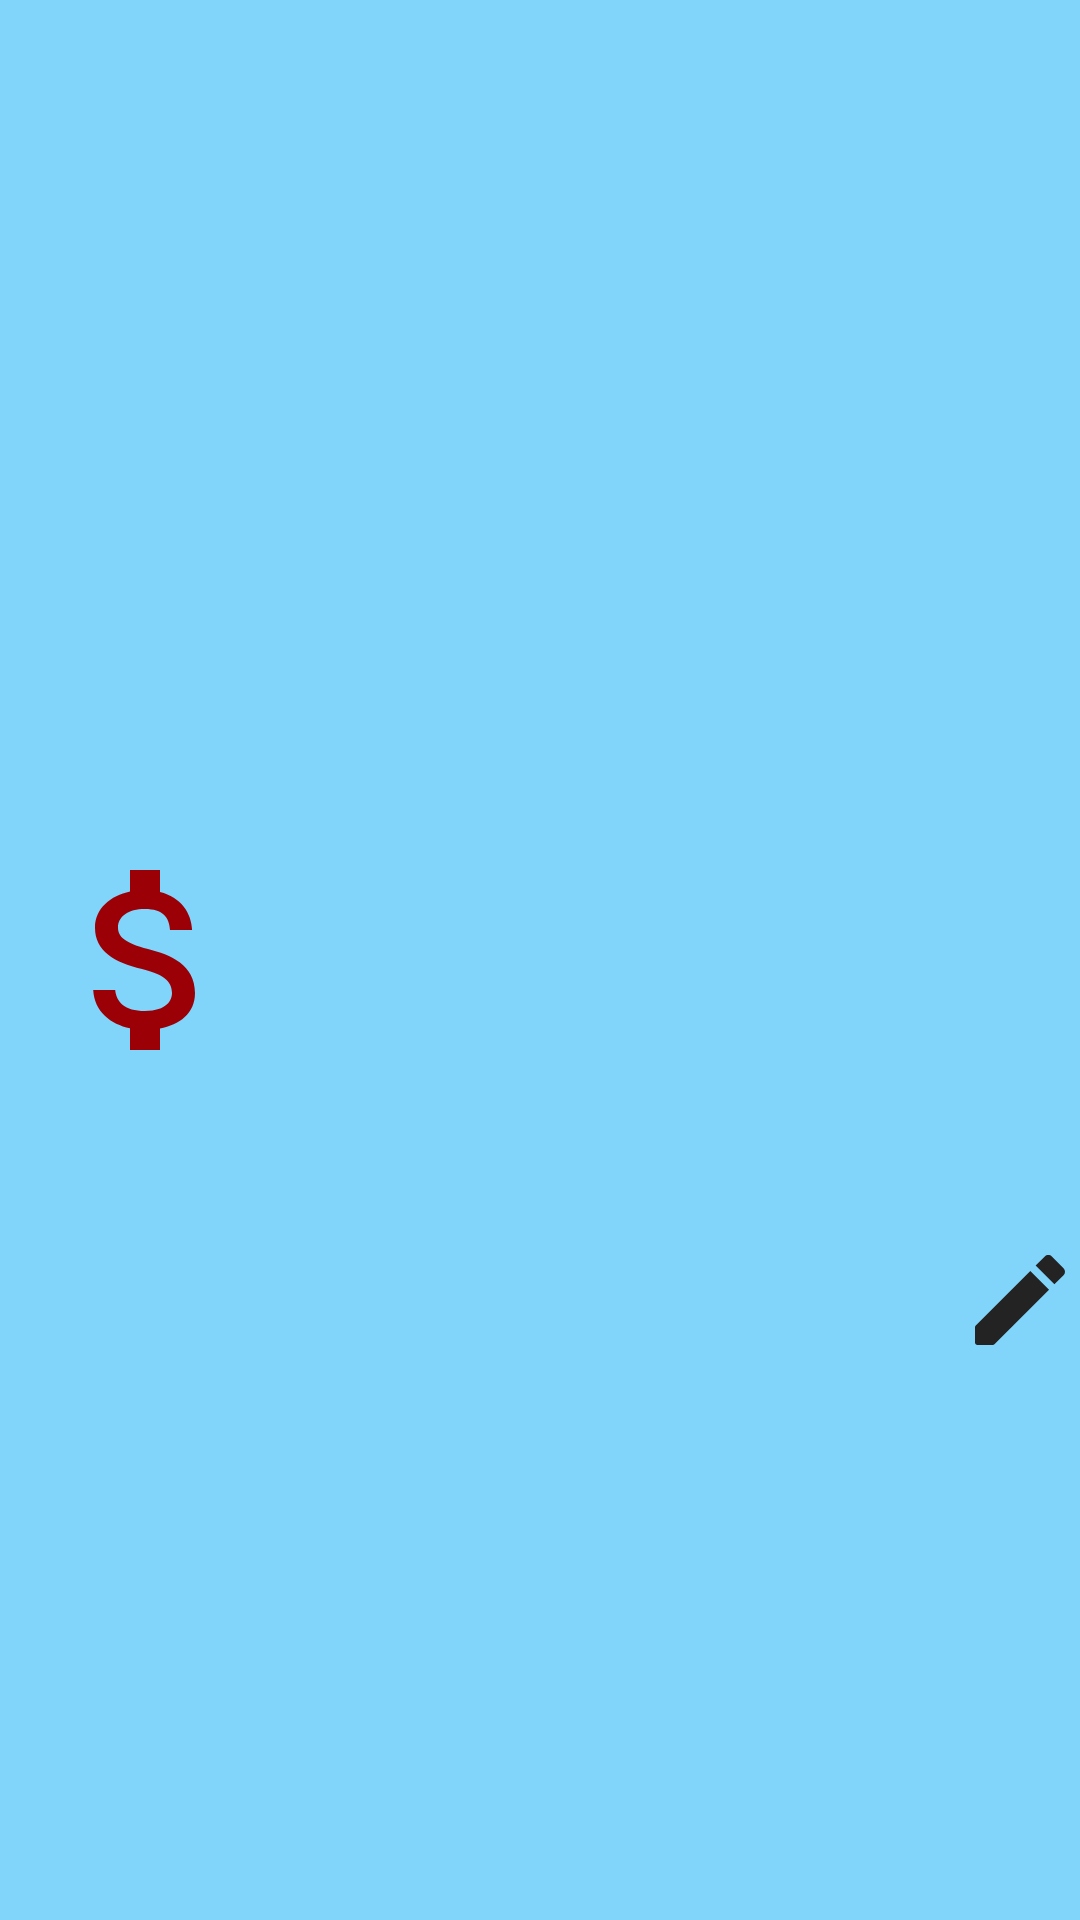

Where to tap for icons on this 1080×1920 app screen, as (x,y):
dollar: (144,960)
edit: (1020,1300)
